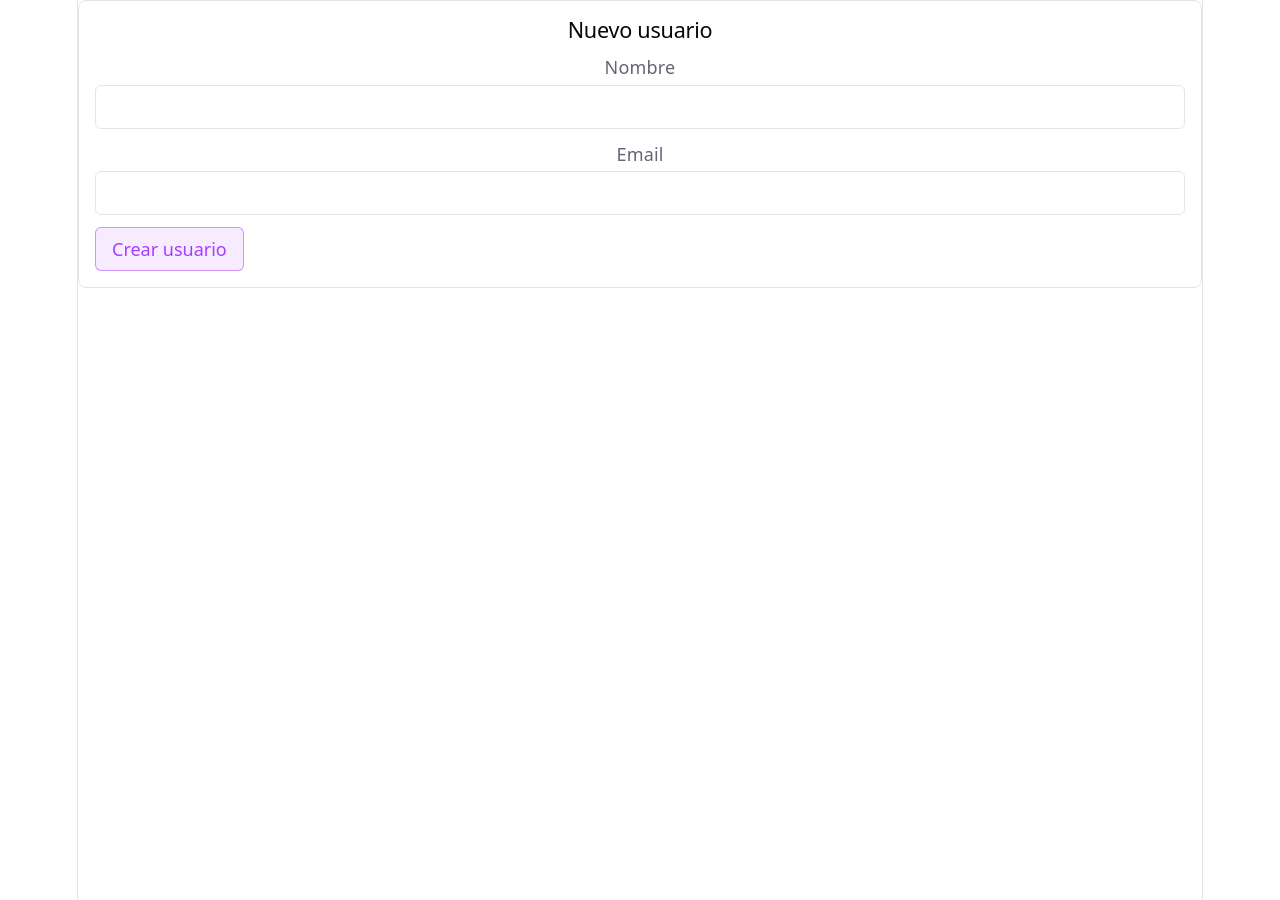
it: UsuarioForm › muestra el error del servidor y conserva los datos
Type "Ana" into the field labelled "Nombre" at (640, 107), box [95, 85, 1185, 129]
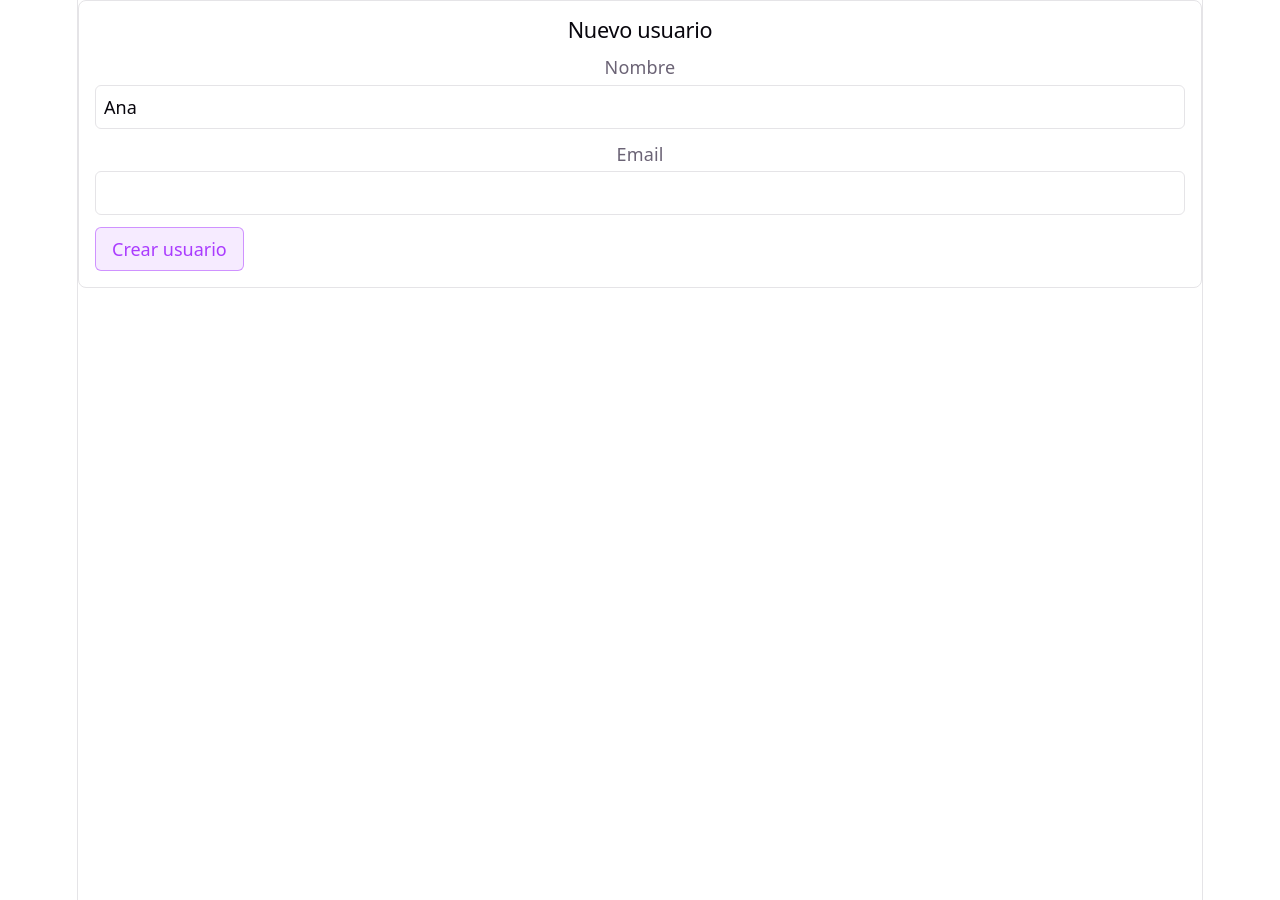
Type "ana@ejemplo.com" into the field labelled "Email" at (640, 193), box [95, 171, 1185, 215]
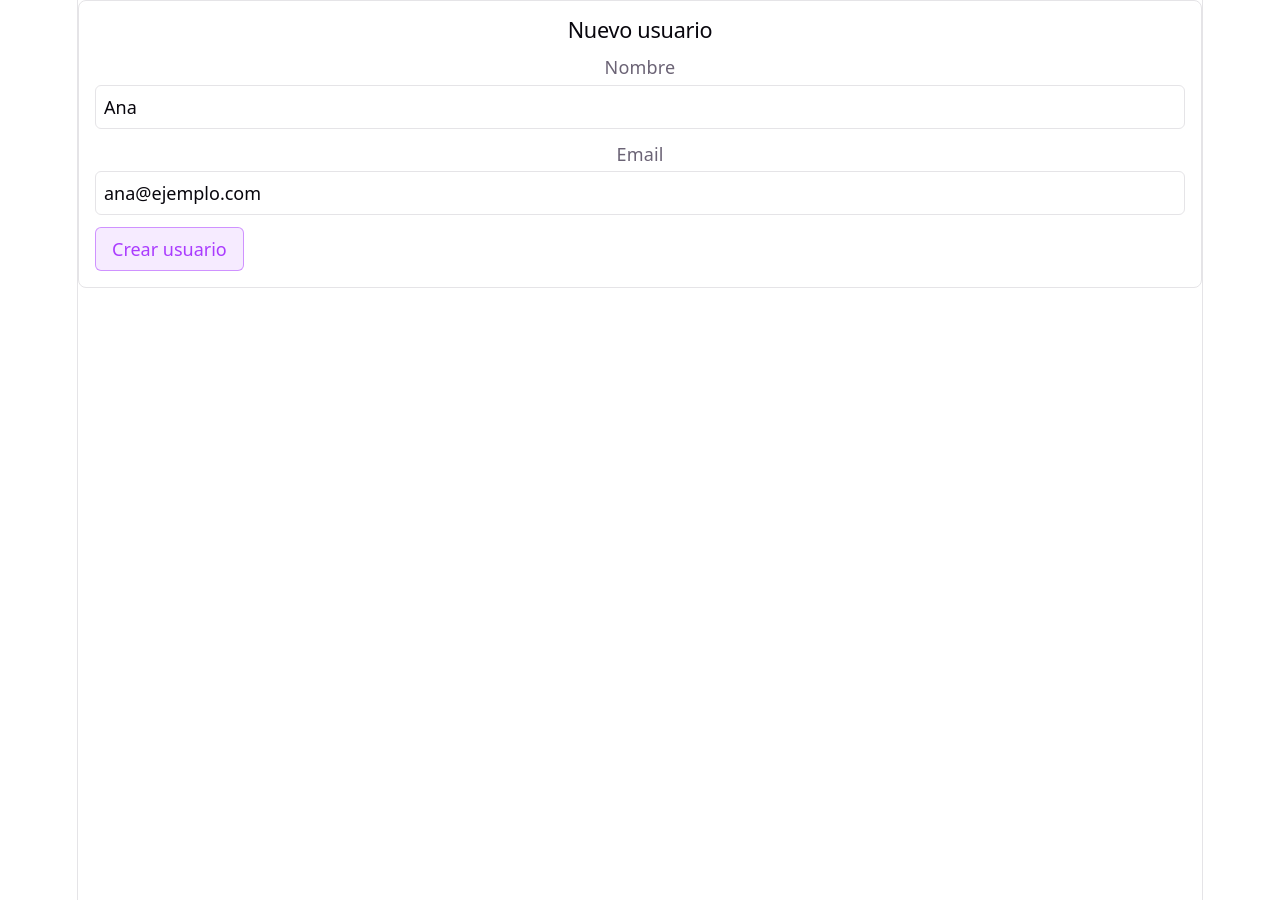
Click the button "Crear usuario" at (169, 249), box [95, 227, 244, 271]
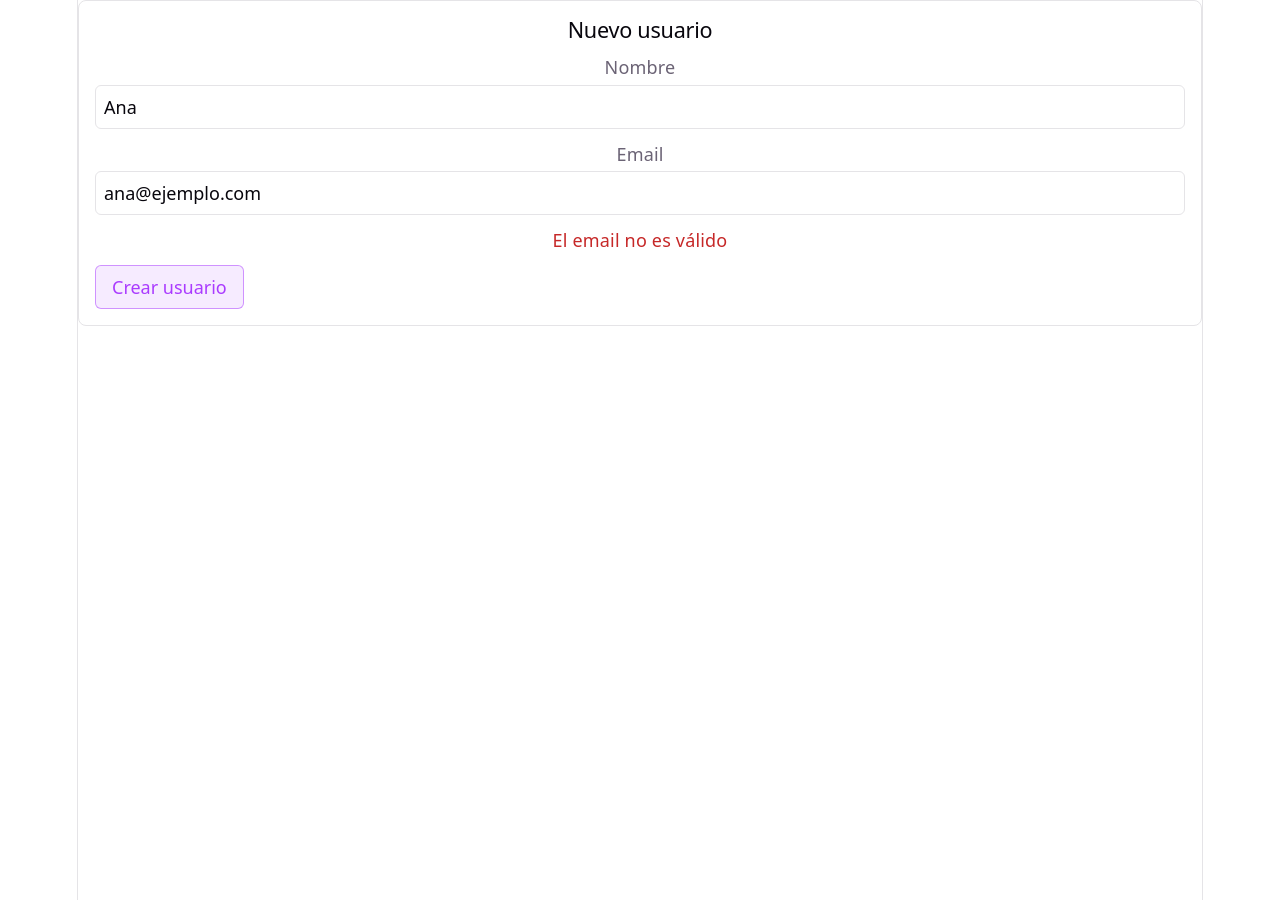
expect the message reads "El email no es válido": met, box [553, 228, 727, 252]
